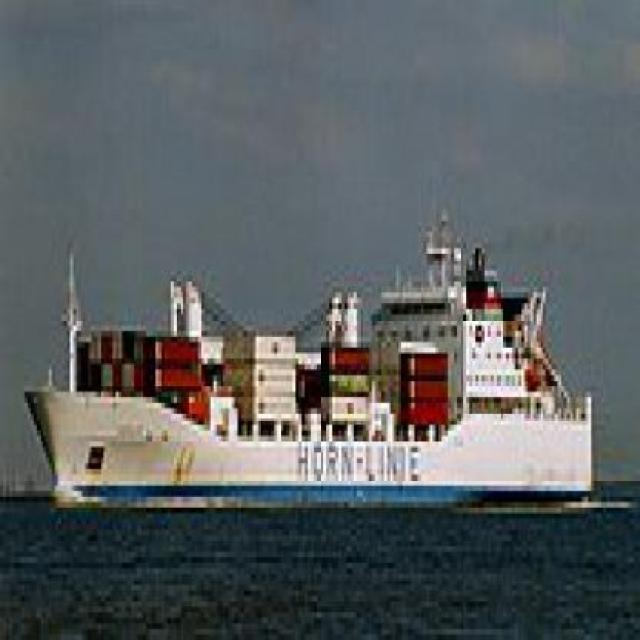container: (16, 211, 611, 531)
